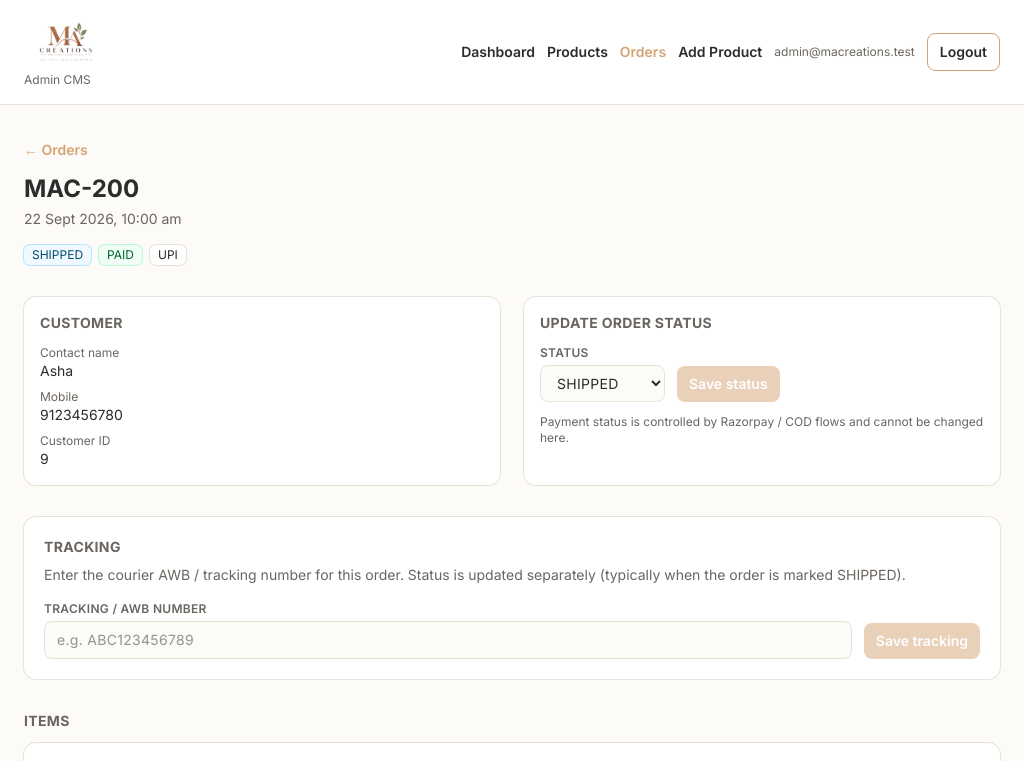
Admin tracking UI › renders tracking field, saves value, and shows validation
The width and height of the screenshot is (1024, 761).
In the field labelled "Tracking / AWB number": x=448, y=640 [44,621,852,659], type "AWB-123"
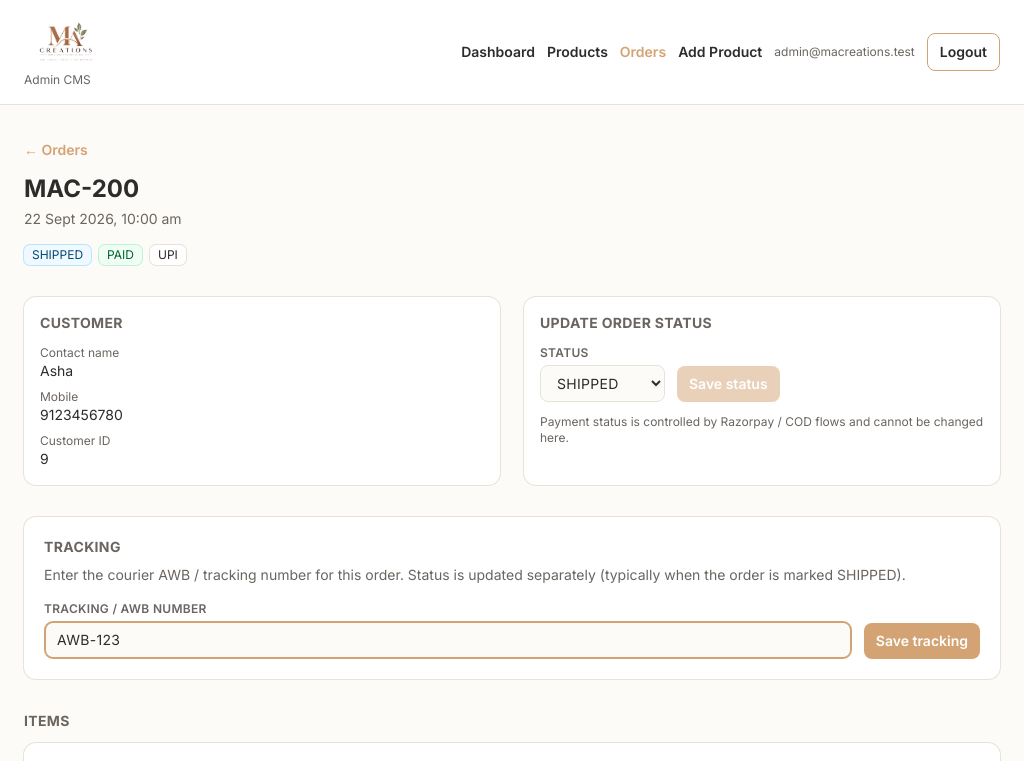
Click the button "Save tracking": x=922, y=641 [864,623,980,659]
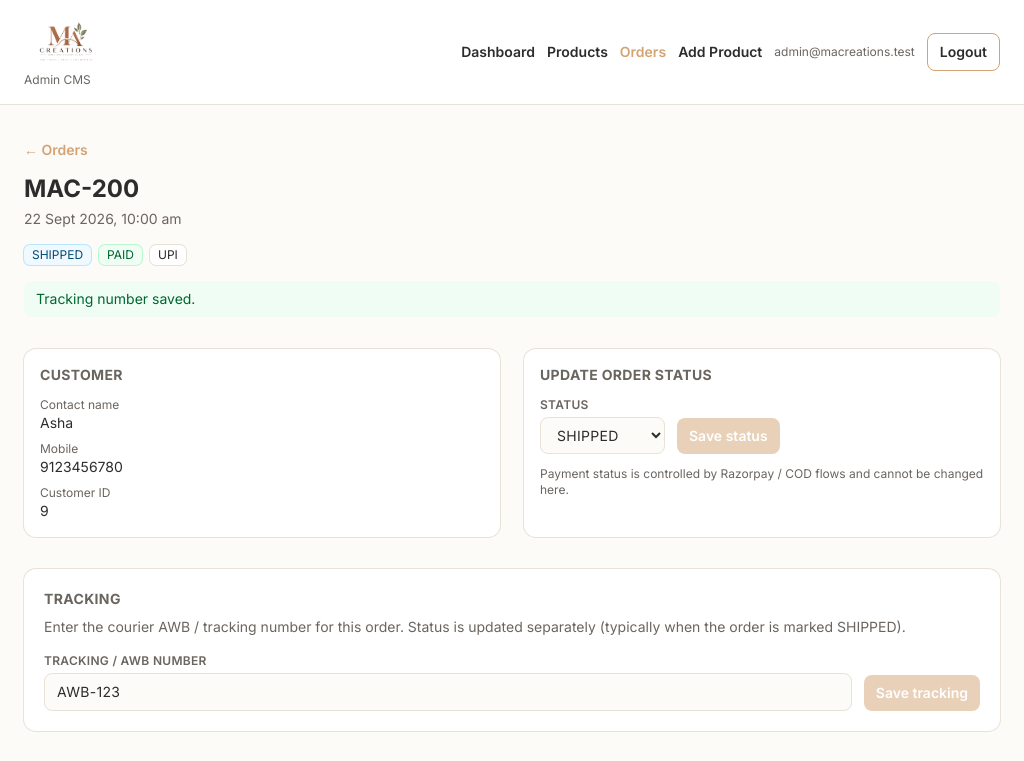
Expected: the text "Tracking number saved." is shown, [24,281,1000,317]
